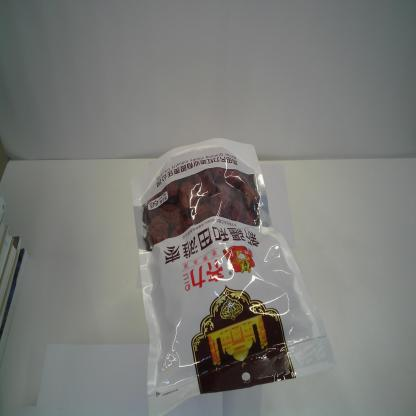Dried Food: (126, 135, 338, 414)
